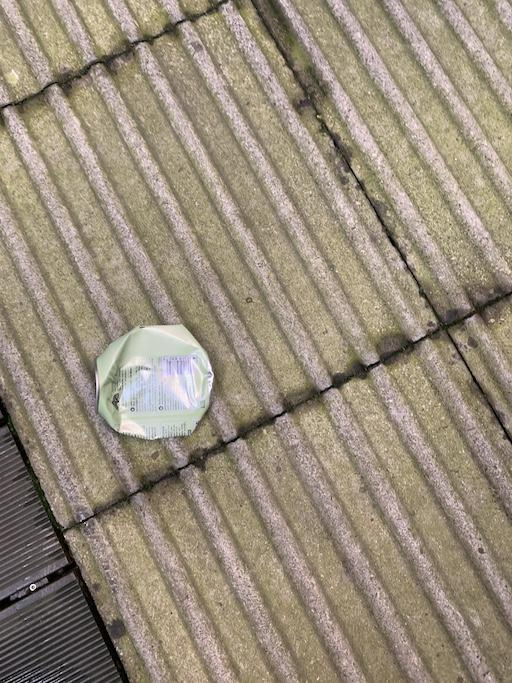Aluminum can: (68, 301, 222, 463)
